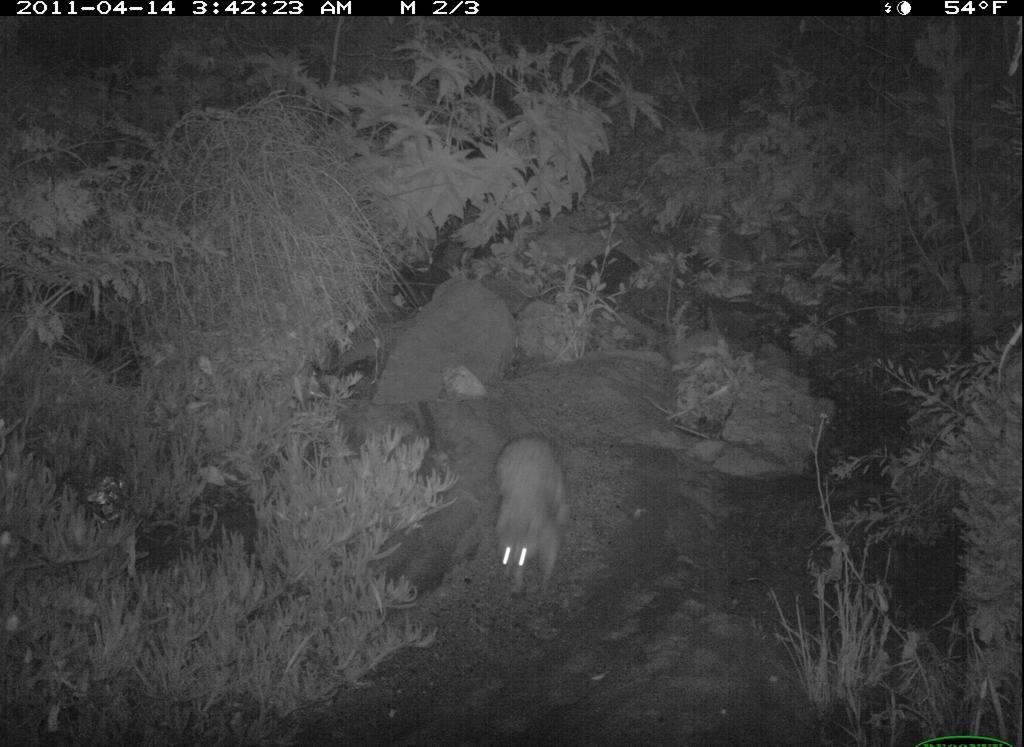raccoon: (483, 428, 584, 612)
